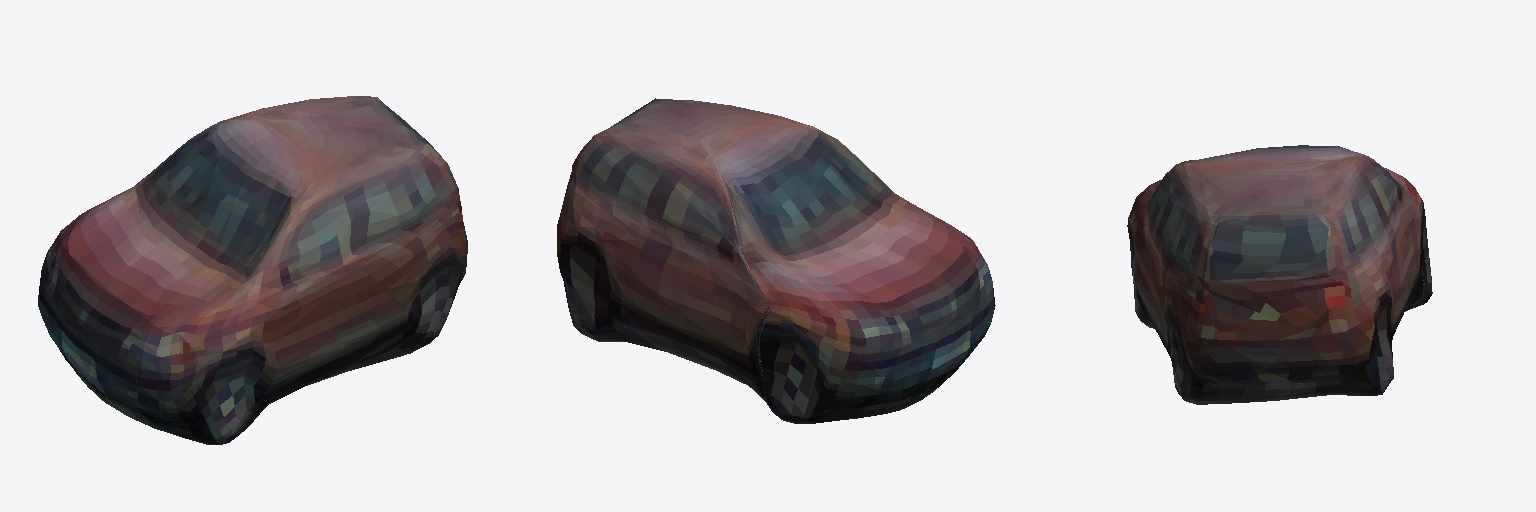
3 renders of one model, left to right at view 1: azimuth 30°, elevation 25°; view 2: azimuth 150°, elevation 25°; view 3: azimuth 270°, elevation 25°, orthographic.
Bounding box in the file's own units: 1 × 0.5919 × 0.7228.
1 materials, 1 textured.